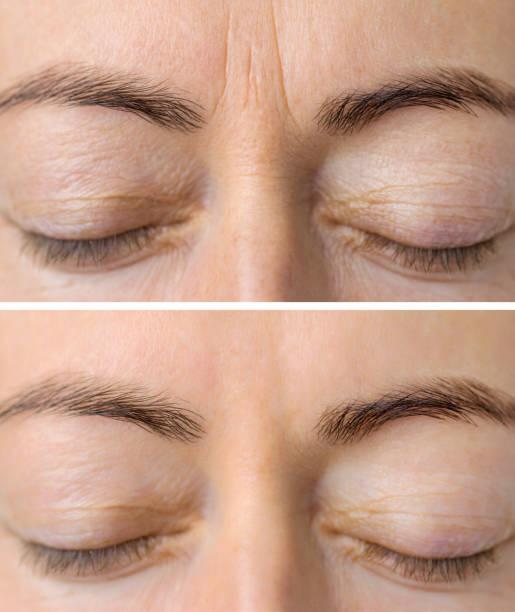Dry-Skin: (145, 7, 338, 240)
